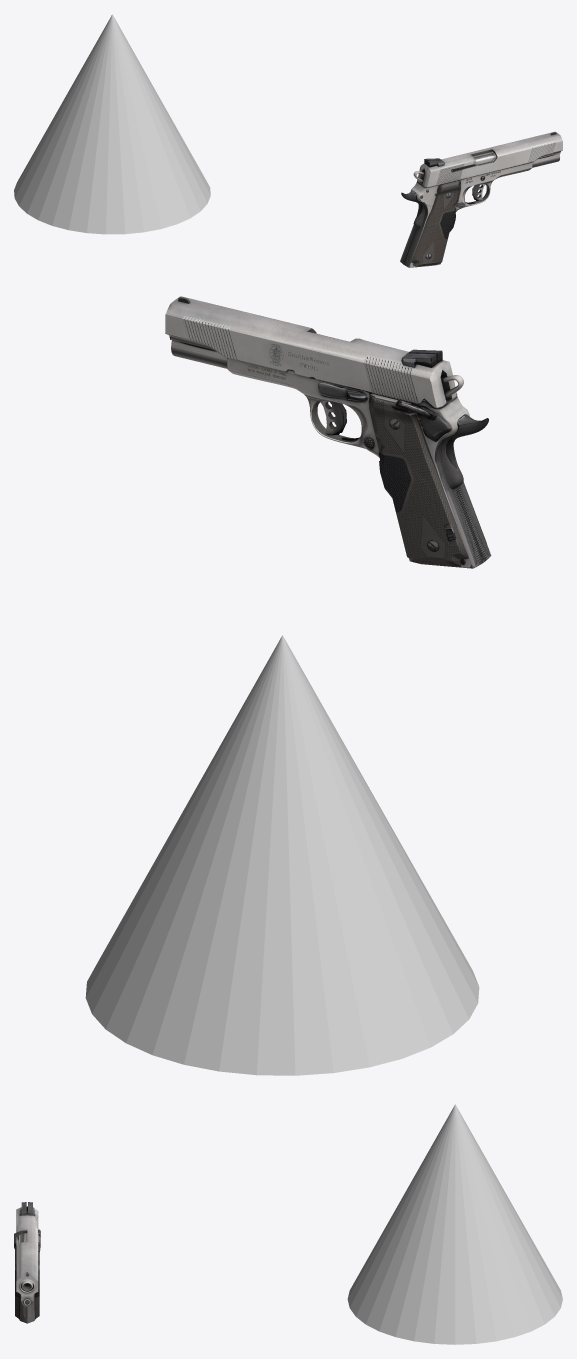
The picture shows the model from 3 angles, top to bottom: view 1: azimuth 30°, elevation 25°; view 2: azimuth 150°, elevation 25°; view 3: azimuth 270°, elevation 25°; orthographic projection. The views are drawn at different scales.
Parts seen in each view (by area): view 1: Cone, Gun, Gun1; view 2: Cone, Gun, Gun1; view 3: Cone, Gun1, Gun.
Part boxes in pixels (x1,y1,x2,y2): Cone: (14, 14, 210, 234); Gun: (400, 151, 532, 267); Gun1: (417, 131, 562, 187); Cone: (85, 635, 479, 1075); Gun: (227, 333, 491, 568); Gun1: (165, 296, 457, 409); Cone: (347, 1104, 562, 1344); Gun1: (16, 1202, 38, 1306); Gun: (14, 1206, 40, 1323).
Size of what is drawn, in the model's own units: 3.94 by 2 by 5.1.
1 material, 1 textured.
